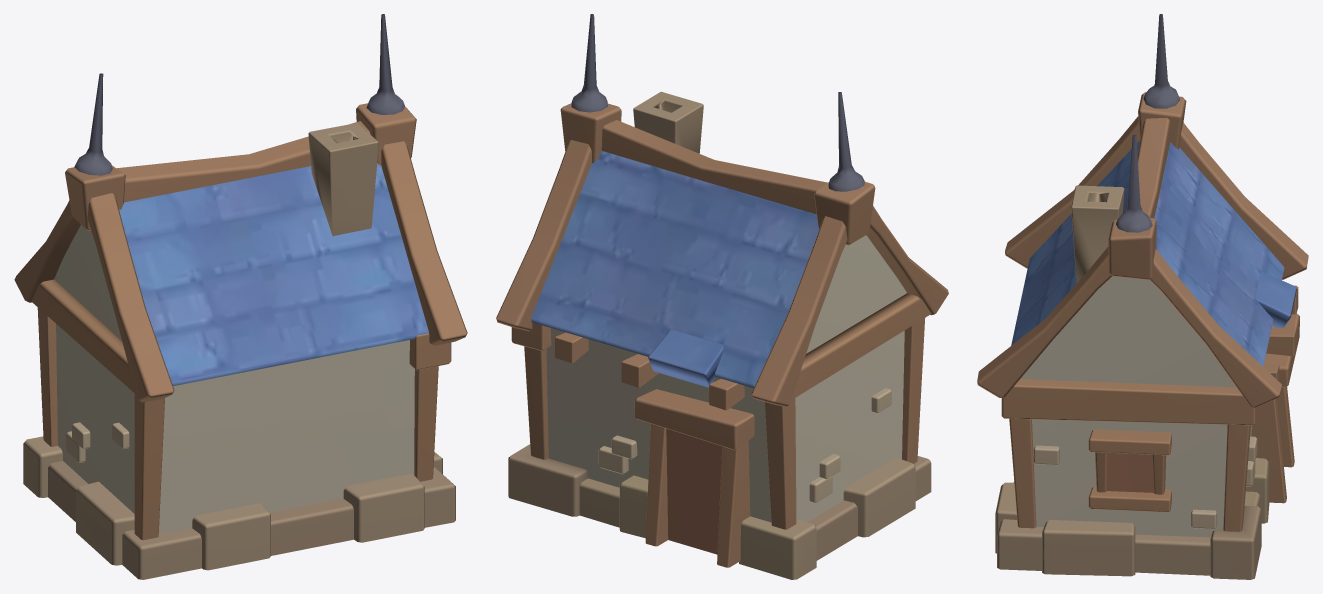
Rendered from House_blue.glb.
3 views of the same model, side by side, from view 1: azimuth 30°, elevation 25°; view 2: azimuth 150°, elevation 25°; view 3: azimuth 270°, elevation 25° (orthographic). The views are drawn at different scales.
Parts seen in each view (by area): view 1: ct_town_house_1; view 2: ct_town_house_1; view 3: ct_town_house_1.
Part boxes in pixels (x1,y1,x2,y2): ct_town_house_1: (14,14,467,579); ct_town_house_1: (496,14,948,579); ct_town_house_1: (977,14,1308,579).
Size of the model in its own units: 6.76 by 9.05 by 6.24.
Materials: 4 (4 with a texture image).
